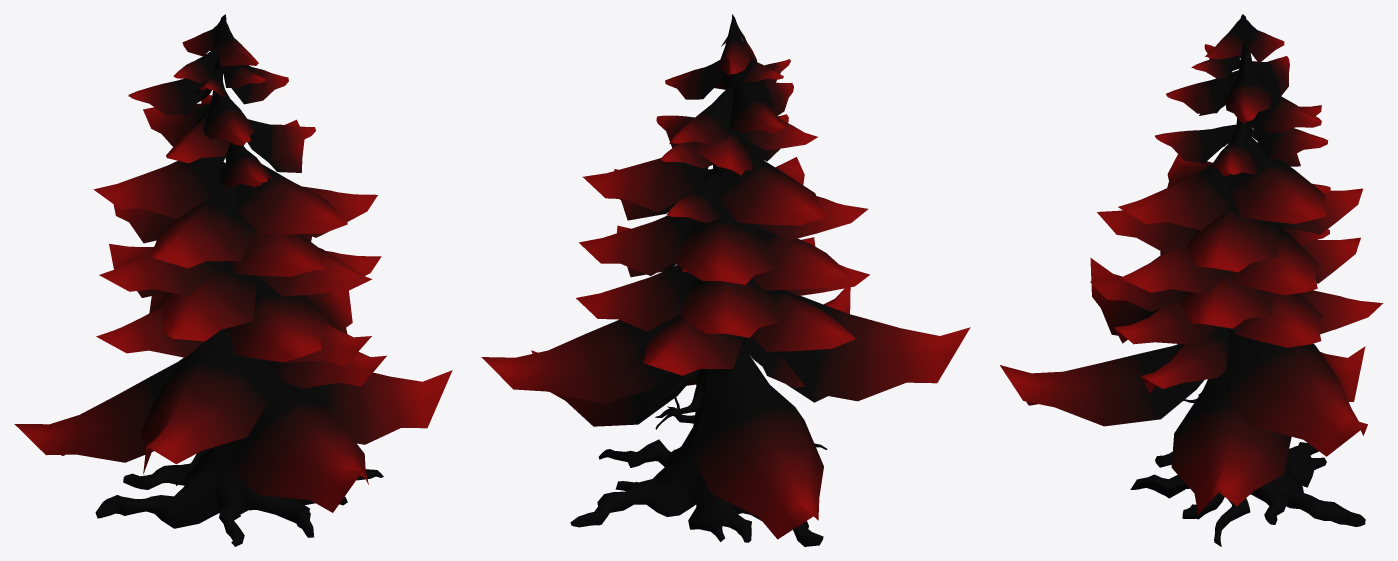
File: SM_Mansion_Tree_02.fbx
3 views of the same model, side by side, from view 1: azimuth 30°, elevation 25°; view 2: azimuth 150°, elevation 25°; view 3: azimuth 270°, elevation 25° (orthographic). The views are drawn at different scales.
Parts seen in each view (by area): view 1: SM_StylizedVillage_Tree_02; view 2: SM_StylizedVillage_Tree_02; view 3: SM_StylizedVillage_Tree_02.
Boxes of the visible parts, left/top/right/bottom form: SM_StylizedVillage_Tree_02: left=14, top=14, right=452, bottom=546; SM_StylizedVillage_Tree_02: left=481, top=14, right=970, bottom=546; SM_StylizedVillage_Tree_02: left=1000, top=14, right=1383, bottom=546.
Bounding box in the file's own units: 695 × 890 × 652.
